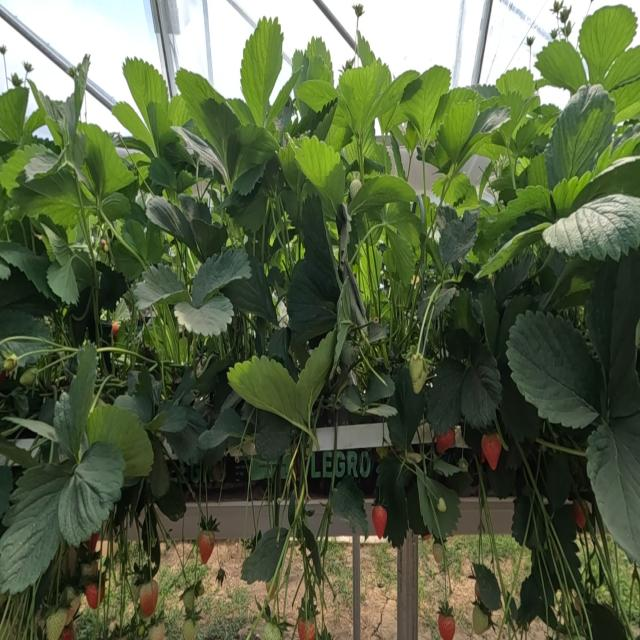Flowers: (352, 4, 363, 23), (526, 35, 535, 49), (23, 60, 31, 74), (1, 45, 6, 55)
Leaves: (508, 312, 603, 426), (0, 461, 73, 593), (586, 417, 639, 561), (544, 87, 614, 187), (58, 444, 124, 545), (177, 71, 241, 170), (544, 194, 639, 258), (604, 252, 639, 413), (40, 60, 87, 176), (228, 356, 303, 426), (53, 342, 97, 457), (87, 405, 152, 477), (241, 16, 283, 125), (579, 5, 636, 83), (123, 57, 169, 152), (476, 222, 551, 278), (399, 66, 450, 145), (287, 260, 336, 341), (586, 257, 619, 376), (296, 329, 338, 422), (338, 61, 390, 136), (81, 123, 132, 199), (301, 199, 339, 298), (482, 185, 550, 239), (14, 168, 80, 223), (460, 343, 501, 430), (224, 255, 276, 323), (295, 137, 344, 206), (334, 267, 367, 369), (192, 248, 251, 305), (1, 309, 56, 369), (387, 367, 426, 449), (43, 226, 92, 290), (171, 126, 227, 180), (500, 364, 539, 441), (146, 197, 198, 254), (426, 357, 464, 435), (376, 452, 407, 546), (0, 241, 52, 297), (459, 107, 510, 163), (117, 218, 163, 278), (536, 40, 586, 92), (350, 176, 416, 215), (376, 70, 418, 130), (197, 408, 244, 461), (242, 528, 287, 583), (437, 100, 476, 163), (165, 405, 207, 463), (0, 143, 45, 196), (235, 124, 278, 179), (133, 265, 184, 310), (174, 296, 231, 335), (330, 475, 367, 535), (439, 211, 478, 267), (494, 254, 534, 304), (265, 70, 300, 127), (112, 102, 154, 149), (227, 184, 268, 232), (255, 409, 291, 463), (499, 90, 535, 141), (500, 295, 532, 350), (385, 229, 415, 286), (448, 289, 480, 340), (478, 285, 499, 356), (386, 203, 419, 248), (191, 219, 227, 259), (1, 87, 27, 142), (546, 455, 571, 511), (472, 563, 501, 611), (588, 603, 626, 639), (47, 259, 78, 303), (148, 437, 169, 498), (292, 50, 310, 120), (297, 80, 337, 111), (497, 67, 534, 99), (115, 394, 152, 423), (149, 403, 187, 431), (510, 119, 537, 156), (179, 194, 211, 225), (149, 156, 177, 190), (279, 144, 298, 193), (365, 374, 395, 405), (25, 153, 58, 181), (305, 36, 332, 70), (445, 328, 472, 361), (164, 142, 194, 171), (445, 174, 472, 206), (102, 193, 130, 220), (307, 55, 333, 84), (433, 287, 456, 319), (268, 328, 288, 364), (135, 367, 152, 401), (341, 386, 363, 412), (366, 322, 389, 344), (177, 170, 195, 193), (366, 404, 397, 417), (432, 178, 445, 190)
Strawberries: (481, 432, 501, 470), (139, 580, 158, 618), (408, 354, 427, 392), (46, 610, 66, 639), (198, 531, 215, 563), (65, 594, 81, 625), (473, 603, 488, 634), (436, 430, 455, 452), (373, 506, 386, 537), (439, 614, 455, 639), (261, 620, 282, 639), (182, 589, 195, 618), (85, 584, 100, 608), (297, 619, 315, 639), (146, 623, 165, 639), (349, 178, 362, 200), (20, 370, 35, 387), (183, 620, 196, 639), (432, 543, 443, 564), (4, 357, 16, 372), (216, 568, 224, 589), (111, 322, 119, 337), (438, 497, 445, 511)
